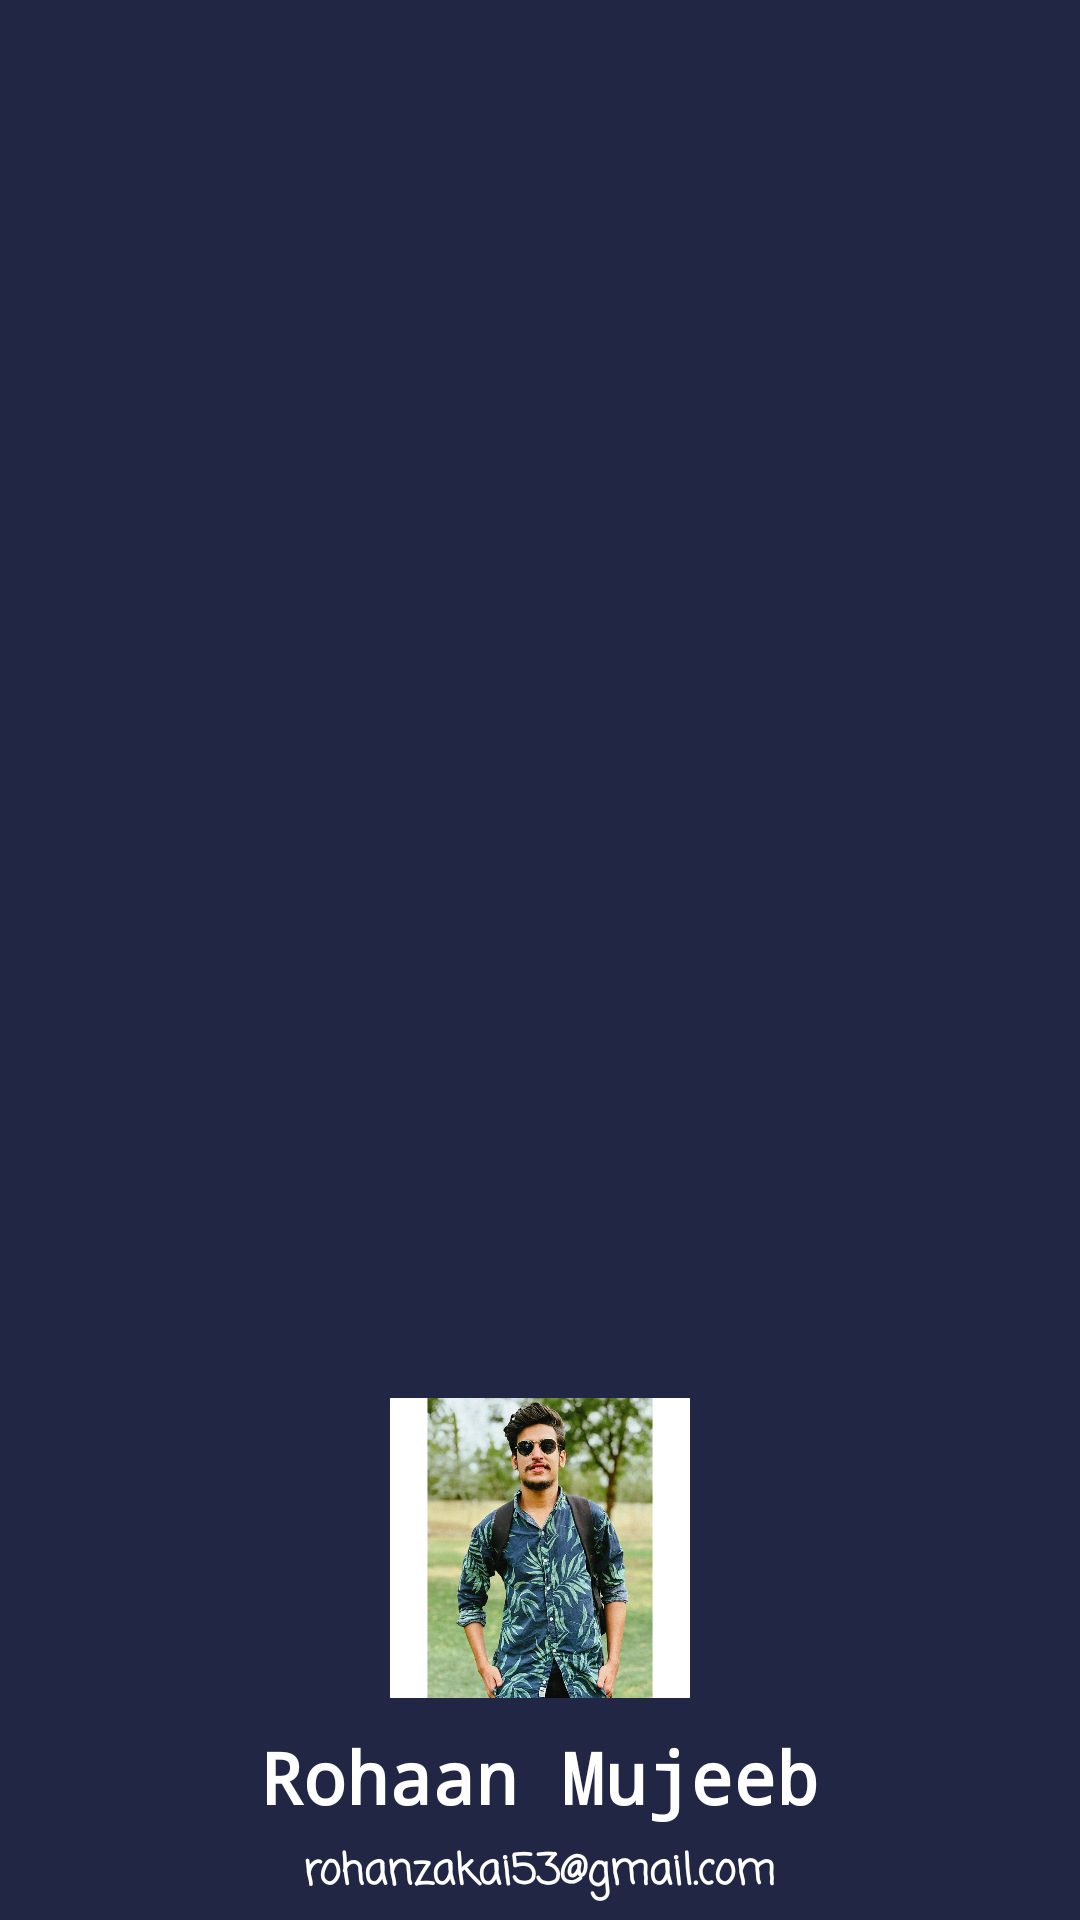

Icons on this 1080px×1920px Android screen, each with its box as (x1, y1, x2, y2):
Header Image: (390, 1398, 690, 1698)
